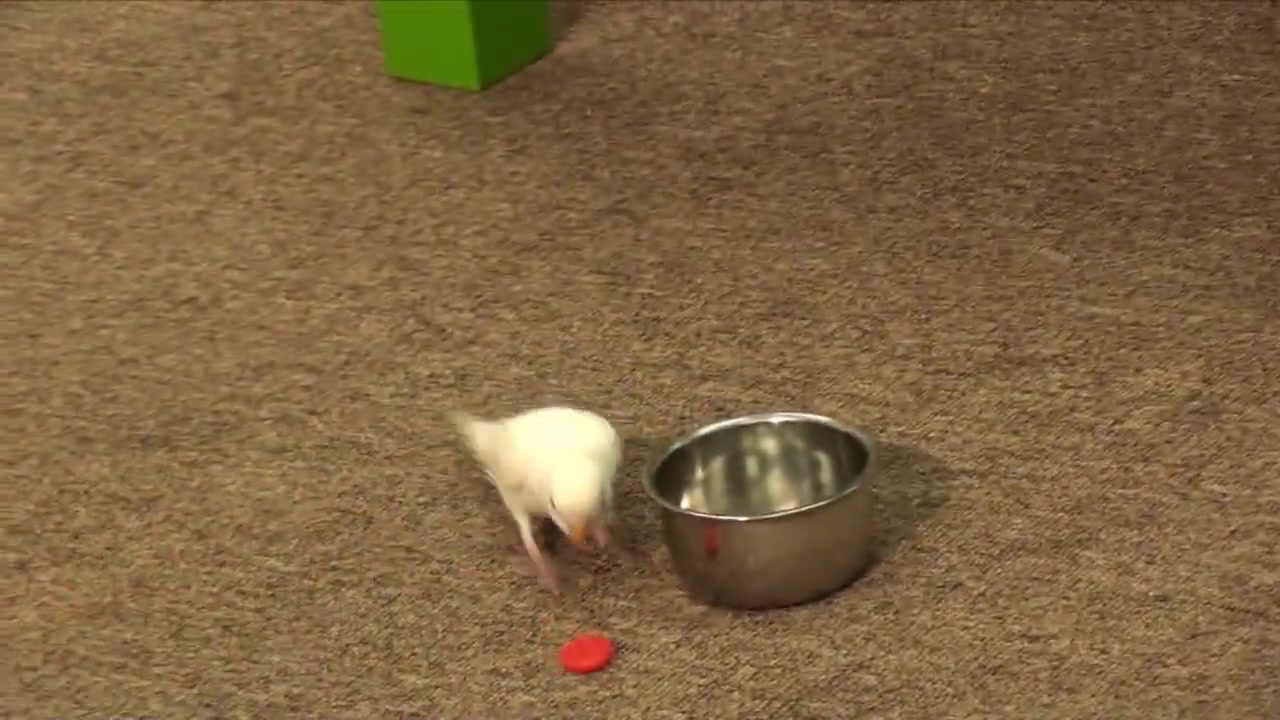bird: (455, 406, 624, 596)
